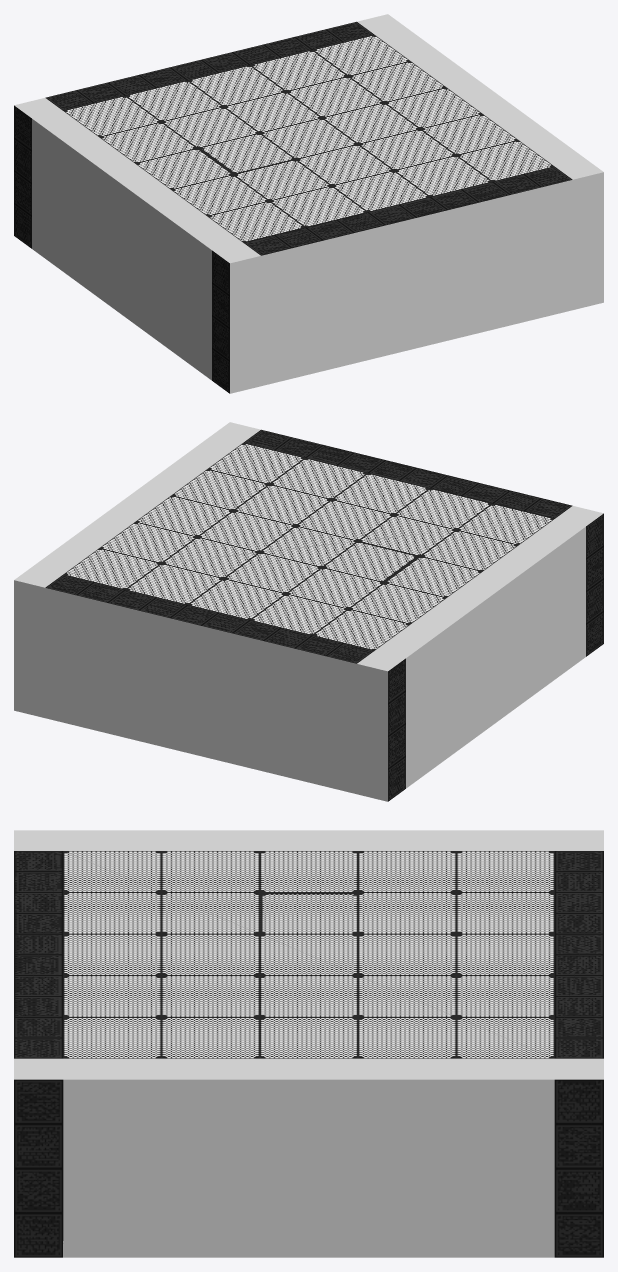
Rendered from Cube3x3WithPipes.fbx.
3 renders of one model, top to bottom at view 1: azimuth 30°, elevation 25°; view 2: azimuth 150°, elevation 25°; view 3: azimuth 270°, elevation 25°, orthographic. The views are drawn at different scales.
Parts seen in each view (by area): view 1: Cube.015; view 2: Cube.015; view 3: Cube.015.
Part boxes in pixels (x1,y1,x2,y2): Cube.015: (14,14,603,393); Cube.015: (14,422,603,801); Cube.015: (14,830,603,1257).
Size of the model in its own units: 1200 by 400 by 1200.
